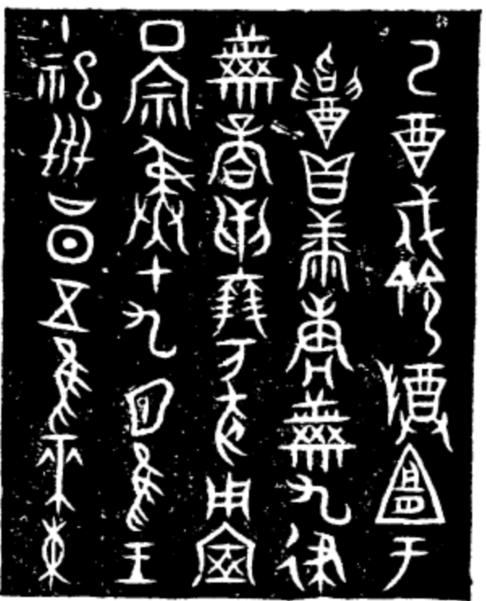char: (287, 28, 376, 147), (375, 352, 481, 449), (370, 431, 468, 533), (274, 197, 371, 287), (378, 260, 466, 359), (285, 302, 370, 397), (14, 45, 117, 114), (132, 134, 189, 258), (211, 16, 287, 103), (274, 391, 358, 469), (96, 529, 179, 601), (108, 448, 172, 541), (28, 334, 89, 426), (185, 518, 252, 596), (106, 372, 186, 436), (26, 512, 83, 601), (393, 177, 463, 249), (277, 532, 350, 601), (122, 62, 194, 131), (208, 111, 270, 190), (114, 298, 187, 360), (207, 385, 262, 467), (301, 149, 365, 219), (205, 196, 276, 257), (20, 438, 82, 505), (216, 261, 272, 334), (17, 215, 102, 263), (391, 109, 458, 169), (36, 276, 108, 330), (111, 8, 199, 49), (33, 121, 103, 172), (402, 39, 466, 94), (189, 473, 271, 513), (376, 537, 431, 591), (286, 480, 355, 522), (42, 9, 114, 42), (206, 339, 261, 377), (43, 185, 103, 212), (127, 265, 177, 292)
